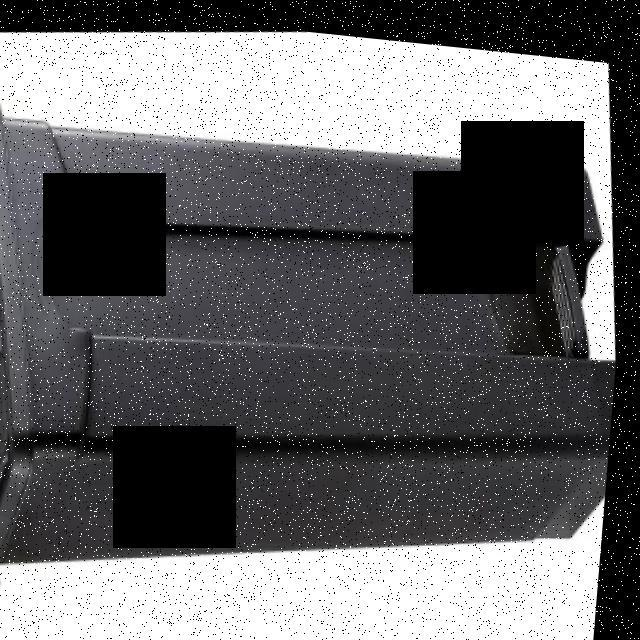bin: (0, 23, 639, 640)
